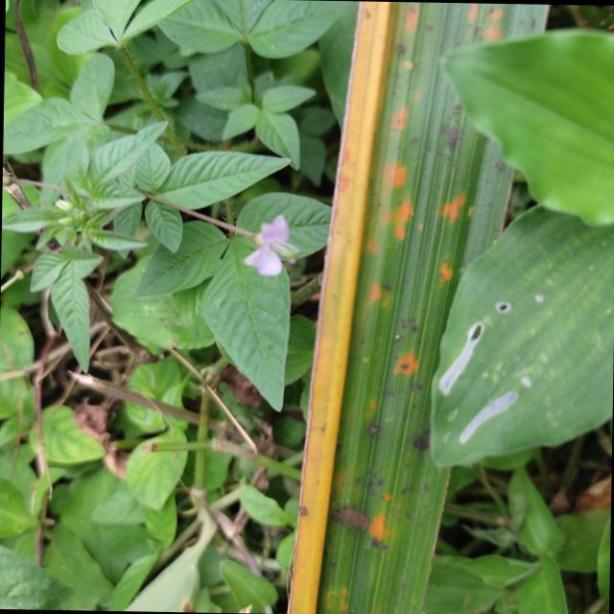Megnesium: (286, 0, 555, 614)
